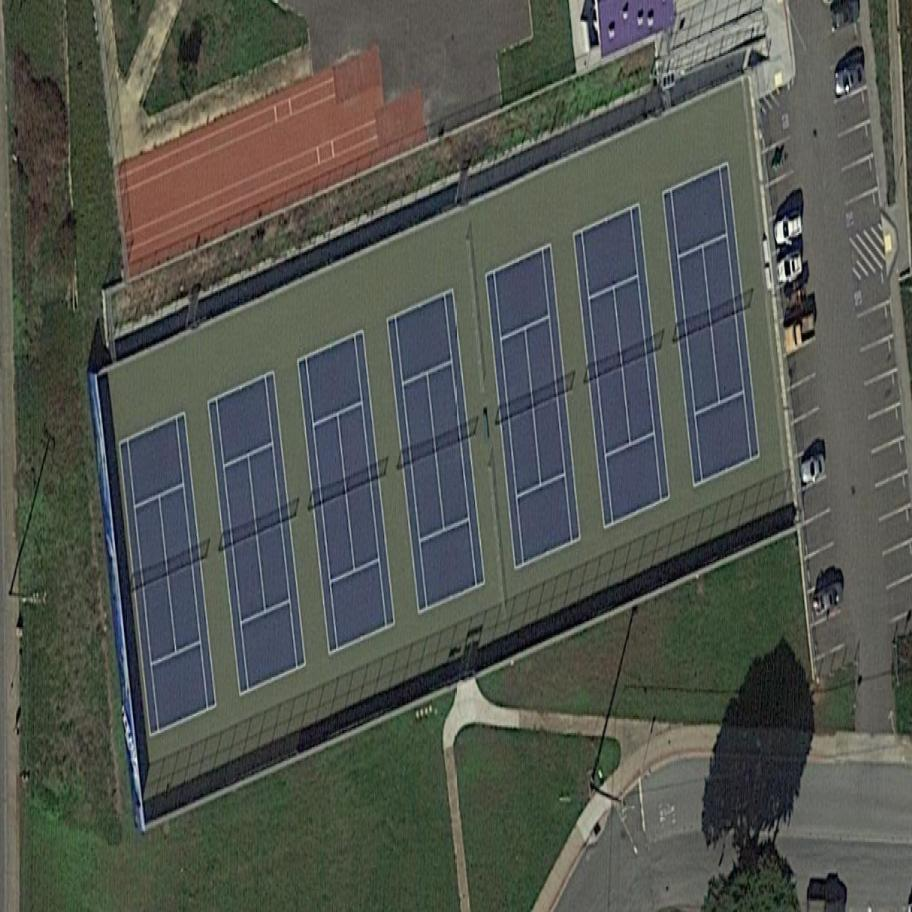small-vehicle: (774, 313, 827, 358), (765, 244, 811, 286), (803, 581, 851, 621), (790, 451, 835, 490), (827, 59, 871, 98), (772, 209, 804, 249)
